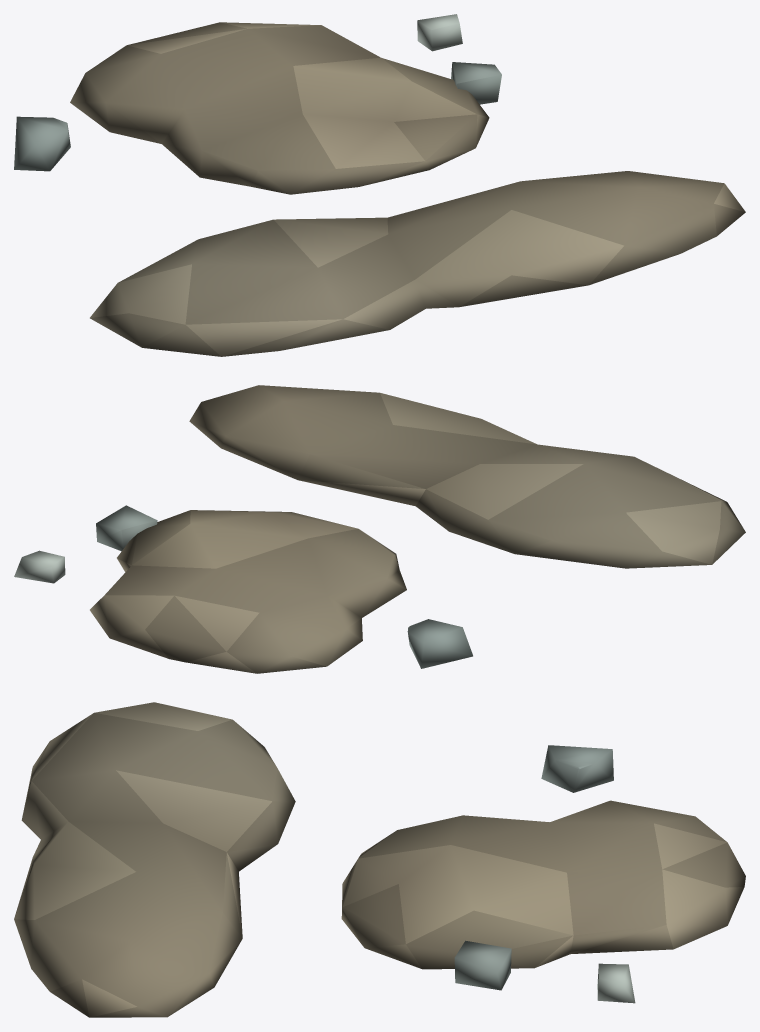
File: grotto_gc_silt_a_lod1.glb
3 views of the same model, one above another, from view 1: azimuth 30°, elevation 25°; view 2: azimuth 150°, elevation 25°; view 3: azimuth 270°, elevation 25° (orthographic). The views are drawn at different scales.
Parts seen in each view (by area): view 1: grotto_gc_silt_a.001; view 2: grotto_gc_silt_a.001; view 3: grotto_gc_silt_a.001.
Boxes of the visible parts, x1,y1,x2,y2 form: grotto_gc_silt_a.001: [14, 14, 745, 356]; grotto_gc_silt_a.001: [14, 385, 745, 673]; grotto_gc_silt_a.001: [14, 702, 745, 1017].
Size of the model in its own units: 3.69 by 0.233 by 3.74.
